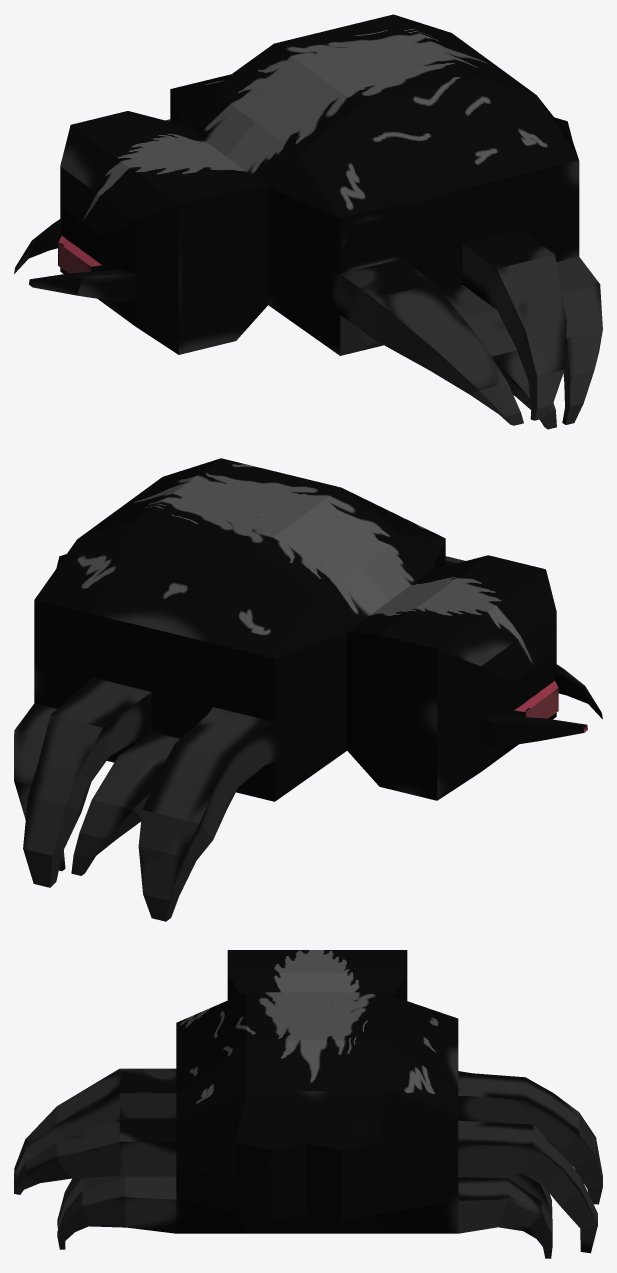
The model's file is araignee.glb.
The picture shows the model from 3 angles, top to bottom: view 1: azimuth 30°, elevation 25°; view 2: azimuth 150°, elevation 25°; view 3: azimuth 270°, elevation 25°; orthographic projection. The views are drawn at different scales.
Visible parts, largest first — view 1: Cube; view 2: Cube; view 3: Cube.
Part boxes in pixels (x1=…): Cube: x1=14, y1=14, x2=602, y2=429; Cube: x1=14, y1=458, x2=602, y2=921; Cube: x1=14, y1=950, x2=602, y2=1258.
Bounding box in the file's own units: 4.23 × 2.11 × 5.01.
Materials: 1 (1 with a texture image).
